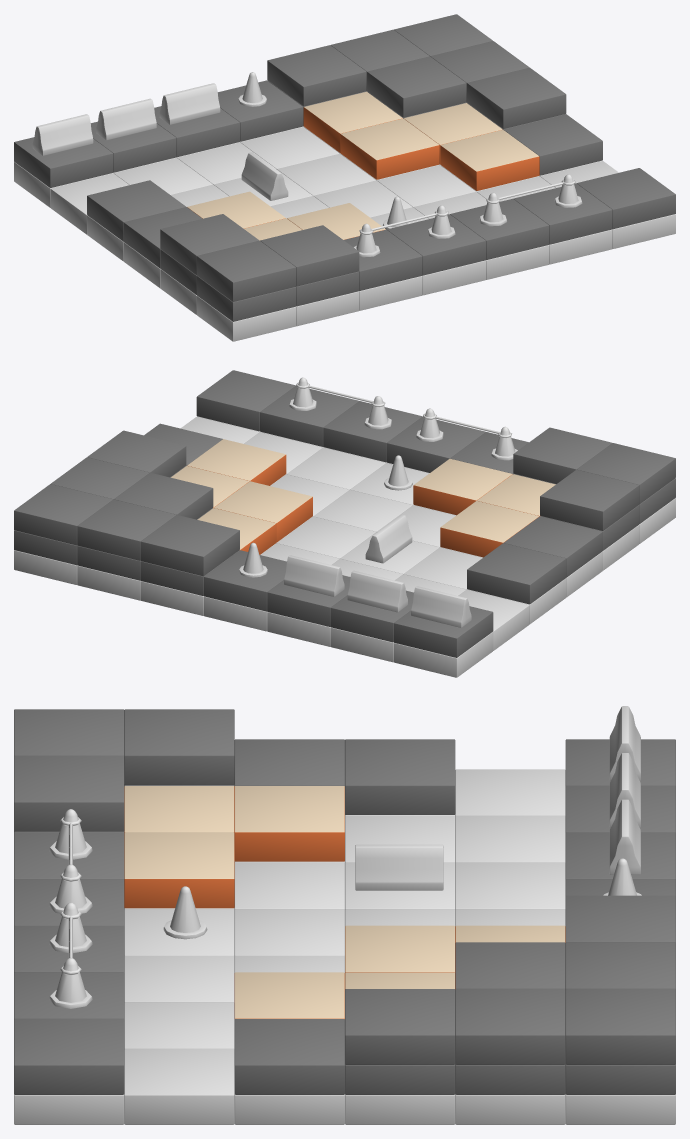
The model's file is World.fbx.
3 renders of one model, top to bottom at view 1: azimuth 30°, elevation 25°; view 2: azimuth 150°, elevation 25°; view 3: azimuth 270°, elevation 25°, orthographic. The views are drawn at different scales.
Parts seen in each view (by area): view 1: Box087, Box089, Box061, Box069, Box091, Box093, Box070, Box092, Box084, Box043, Box082, Box083 (+52 smaller); view 2: Box057, Box090, Box093, Box086, Box085, Box084, Box073, Box065, Box092, Box083, Box082, Box043 (+56 smaller); view 3: Box035, Box088, Box090, Box065, Box057, Box070, Box084, Box086, Box089, Box073, Box092, Box033 (+48 smaller).
Part boxes in pixels (bbox=[...]): Box087: bbox=[367, 56, 466, 117]; Box089: bbox=[467, 67, 566, 128]; Box061: bbox=[340, 118, 439, 179]; Box069: bbox=[440, 130, 539, 190]; Box091: bbox=[196, 240, 295, 301]; Box093: bbox=[267, 45, 366, 106]; Box070: bbox=[504, 114, 602, 175]; Box092: bbox=[260, 225, 359, 286]; Box084: bbox=[577, 168, 675, 229]; Box043: bbox=[14, 137, 113, 187]; Box082: bbox=[450, 198, 549, 259]; Box083: bbox=[513, 183, 612, 244]; Box057: bbox=[467, 543, 566, 604]; Box090: bbox=[540, 469, 639, 530]; Box093: bbox=[140, 515, 239, 576]; Box086: bbox=[14, 484, 112, 545]; Box085: bbox=[77, 499, 176, 560]; Box084: bbox=[196, 370, 295, 431]; Box073: bbox=[413, 458, 512, 515]; Box065: bbox=[440, 501, 539, 557]; Box092: bbox=[513, 427, 612, 483]; Box083: bbox=[260, 386, 358, 446]; Box082: bbox=[323, 401, 422, 462]; Box043: bbox=[394, 606, 493, 657]; Box035: bbox=[124, 1049, 234, 1124]; Box088: bbox=[455, 989, 565, 1064]; Box090: bbox=[124, 709, 234, 784]; Box065: bbox=[234, 786, 344, 861]; Box057: bbox=[345, 739, 455, 814]; Box070: bbox=[234, 1019, 344, 1094]; Box084: bbox=[14, 1019, 124, 1094]; Box086: bbox=[565, 989, 675, 1064]; Box089: bbox=[345, 989, 455, 1064]; Box073: bbox=[124, 832, 234, 908]; Box092: bbox=[14, 756, 124, 831]; Box033: bbox=[124, 955, 234, 1002].
Size of what is drawn, in the model's own units: 700 by 103 by 600.
